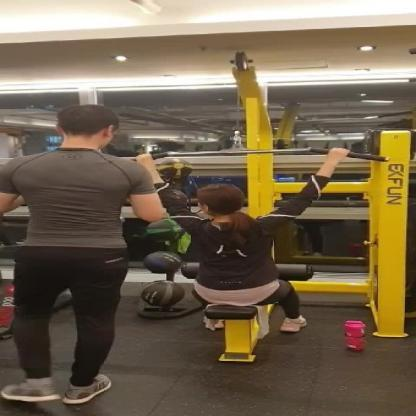Lat Pull Down: (77, 44, 416, 370)
